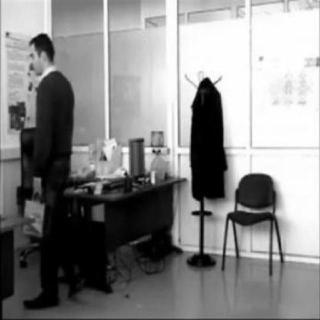other: (21, 193, 43, 236)
